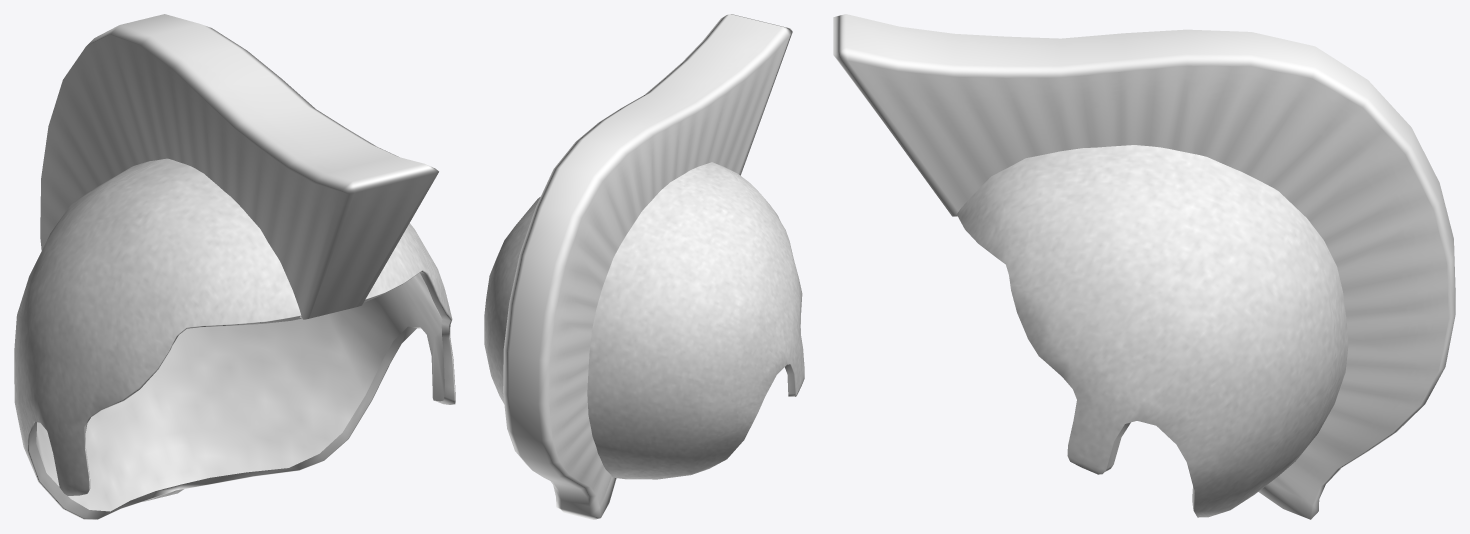
The model's file is CapWigMohican.glb.
The picture shows the model from 3 angles, left to right: view 1: azimuth 30°, elevation 25°; view 2: azimuth 150°, elevation 25°; view 3: azimuth 270°, elevation 25°; orthographic projection. The views are drawn at different scales.
Parts seen in each view (by area): view 1: Body__mCapHairSkin, BodyHair__mCapHair; view 2: Body__mCapHairSkin, BodyHair__mCapHair; view 3: BodyHair__mCapHair, Body__mCapHairSkin.
Boxes of the visible parts, x1=… form: Body__mCapHairSkin: x1=14, y1=158, x2=455, y2=519; BodyHair__mCapHair: x1=40, y1=14, x2=438, y2=501; Body__mCapHairSkin: x1=484, y1=162, x2=804, y2=479; BodyHair__mCapHair: x1=503, y1=14, x2=792, y2=519; BodyHair__mCapHair: x1=833, y1=14, x2=1455, y2=519; Body__mCapHairSkin: x1=957, y1=145, x2=1348, y2=517.
Size of the model in its own units: 6.78 by 8.35 by 9.82.
Materials: 2 (2 with a texture image).
